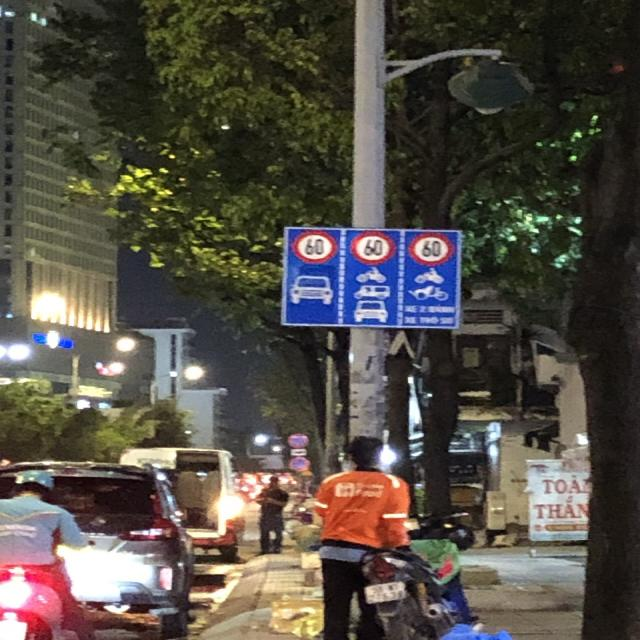Bien bao toc do toi da cho phep: (287, 224, 341, 266), (346, 230, 400, 268), (406, 230, 456, 267)
